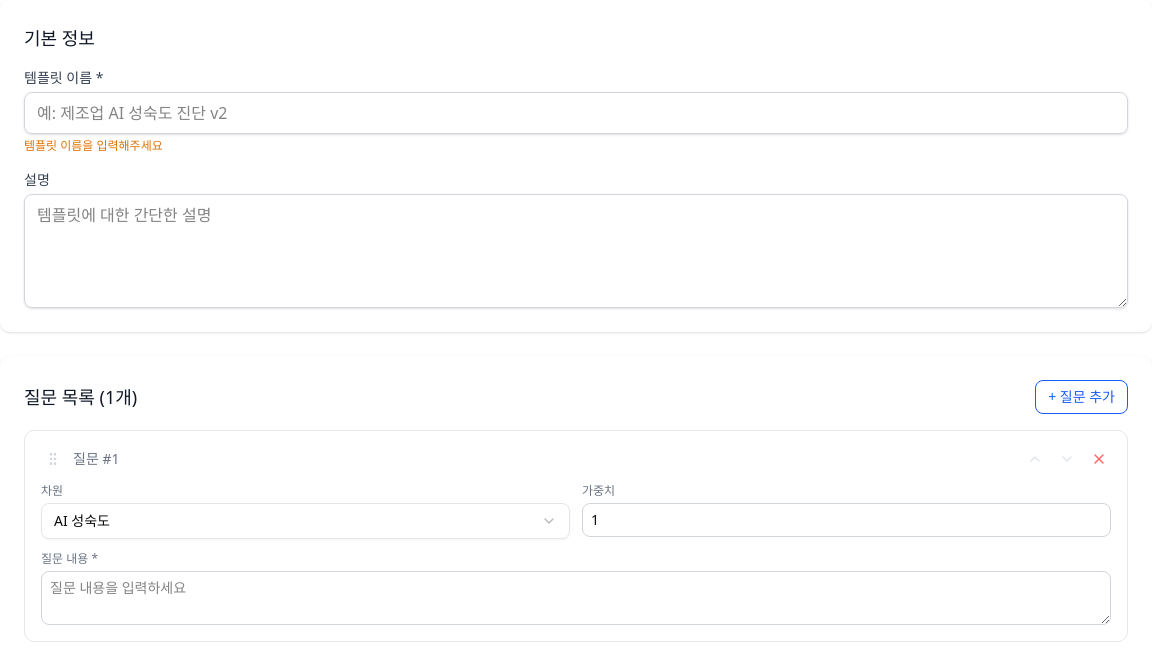
Test: TemplateForm › 질문 추가/삭제 › 질문이 1개일 때 삭제하면 에러 메시지가 표시되어야 한다
Click the button titled "삭제". click: {"x": 1099, "y": 459}
box: [1087,447,1111,471]
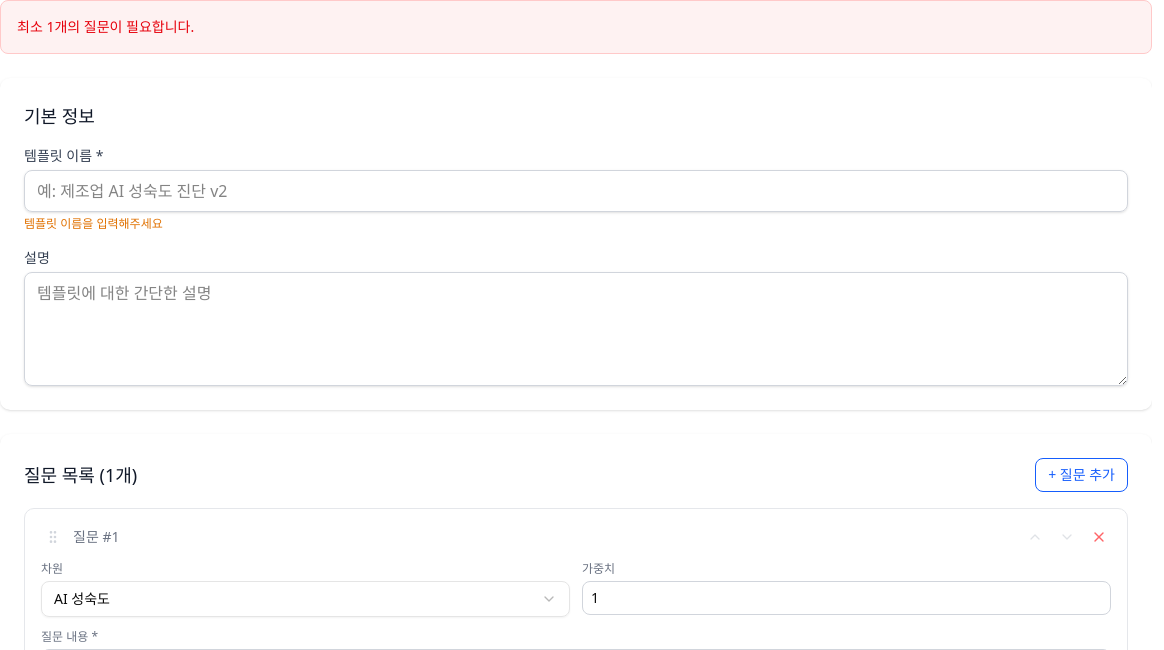
Expected: the text "최소 1개의 질문이 필요합니다." is shown, [17,17,194,36]
